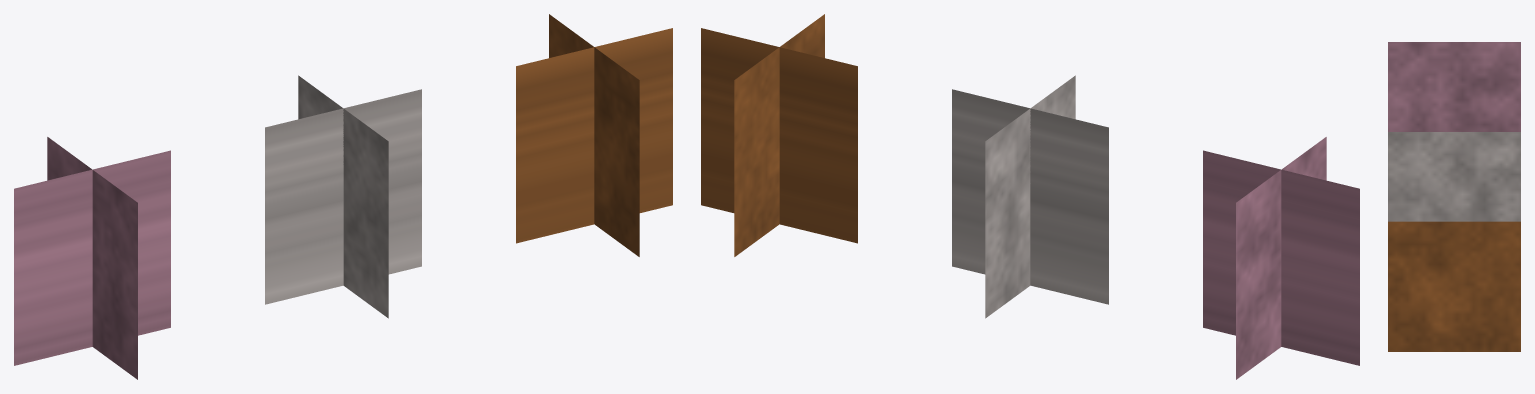
File: tree_blossom_bb.glb
3 views of the same model, side by side, from view 1: azimuth 30°, elevation 25°; view 2: azimuth 150°, elevation 25°; view 3: azimuth 270°, elevation 25° (orthographic). The views are drawn at different scales.
Parts seen in each view (by area): view 1: tree_blossom_bb_v2, tree_blossom_bb_v1, tree_blossom_bb_v3; view 2: tree_blossom_bb_v2, tree_blossom_bb_v1, tree_blossom_bb_v3; view 3: tree_blossom_bb_v3, tree_blossom_bb_v1, tree_blossom_bb_v2.
Boxes of the visible parts, bbox=[...] form: tree_blossom_bb_v2: bbox=[265, 75, 421, 318]; tree_blossom_bb_v1: bbox=[14, 137, 170, 379]; tree_blossom_bb_v3: bbox=[516, 14, 672, 256]; tree_blossom_bb_v2: bbox=[952, 75, 1108, 318]; tree_blossom_bb_v1: bbox=[1203, 137, 1359, 379]; tree_blossom_bb_v3: bbox=[701, 14, 857, 256]; tree_blossom_bb_v3: bbox=[1388, 221, 1520, 351]; tree_blossom_bb_v1: bbox=[1388, 42, 1520, 131]; tree_blossom_bb_v2: bbox=[1388, 132, 1520, 221].
Bounding box in the file's own units: 21 × 5.4 × 5.
Materials: 1 (1 with a texture image).
